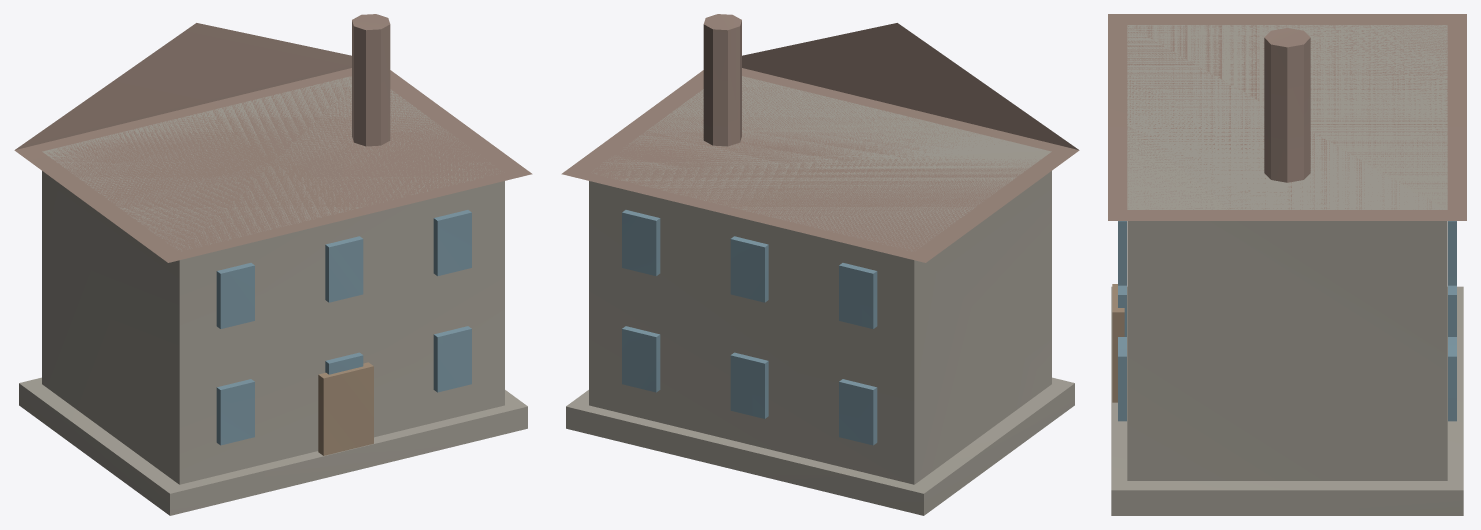
File: chalet-01.glb
3 views of the same model, side by side, from view 1: azimuth 30°, elevation 25°; view 2: azimuth 150°, elevation 25°; view 3: azimuth 270°, elevation 25° (orthographic). The views are drawn at different scales.
Visible parts, largest first — view 1: world; view 2: world; view 3: world.
Boxes of the visible parts, x1,y1,x2,y2 form: world: [14, 14, 532, 515]; world: [561, 14, 1079, 515]; world: [1108, 14, 1466, 515].
Size of the model in its own units: 1.38 by 1.34 by 1.01.
